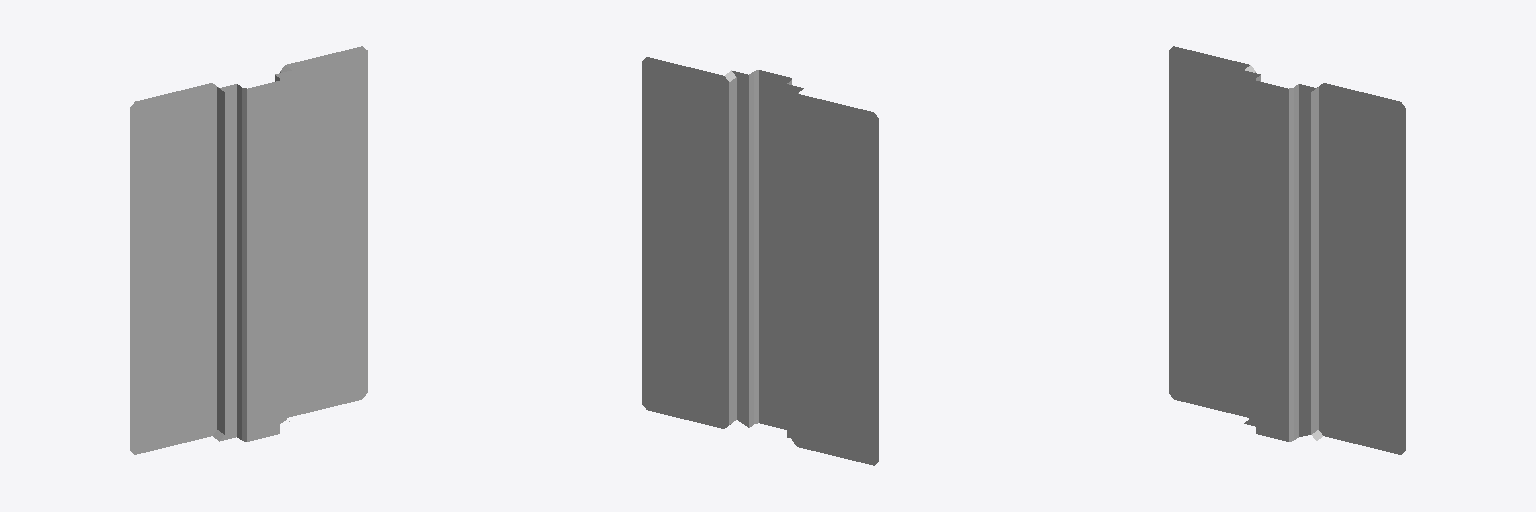
File: door_in.obj
The picture shows the model from 3 angles: view 1: azimuth 30°, elevation 25°; view 2: azimuth 150°, elevation 25°; view 3: azimuth 330°, elevation 25°; orthographic projection.
Parts seen in each view (by area): view 1: spacecamp.001; view 2: spacecamp.001; view 3: spacecamp.001.
Boxes of the visible parts, x1=… form: spacecamp.001: x1=130, y1=46, x2=367, y2=454; spacecamp.001: x1=642, y1=57, x2=878, y2=465; spacecamp.001: x1=1169, y1=46, x2=1405, y2=454.
Bounding box in the file's own units: 4.05 × 5.76 × 0.4352.